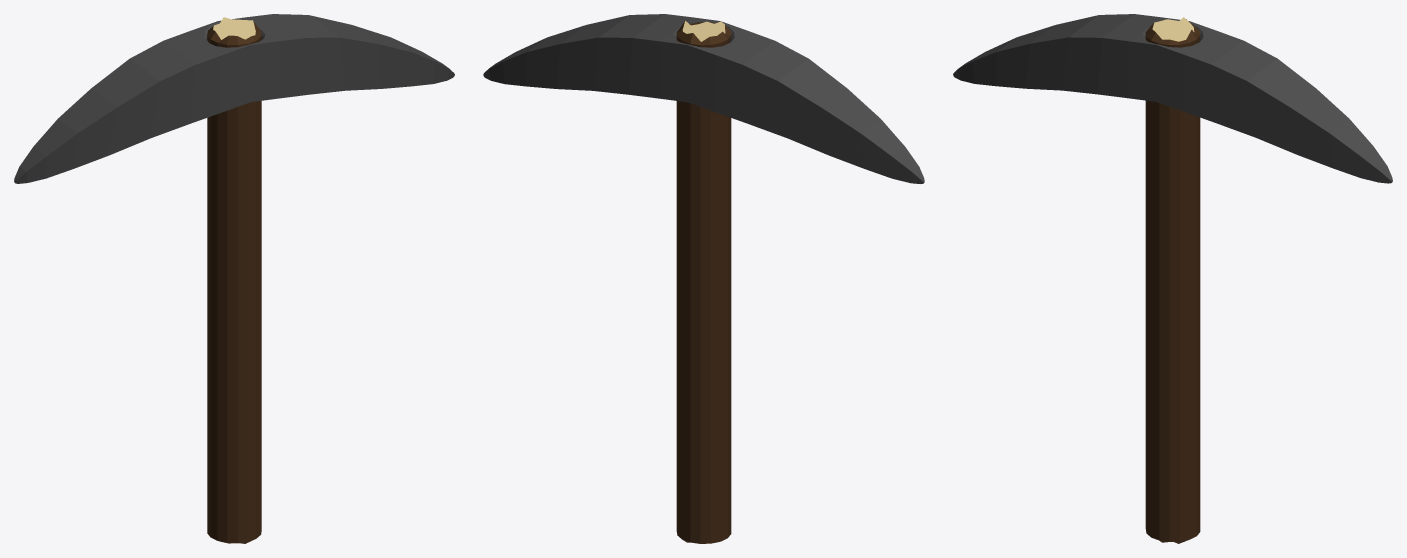
Rendered from kilof.fbx.
The picture shows the model from 3 angles, left to right: view 1: azimuth 30°, elevation 25°; view 2: azimuth 150°, elevation 25°; view 3: azimuth 330°, elevation 25°; orthographic projection.
Parts seen in each view (by area): view 1: Cube; view 2: Cube; view 3: Cube.
Part boxes in pixels (x1=…): Cube: x1=14, y1=14, x2=454, y2=543; Cube: x1=483, y1=14, x2=924, y2=543; Cube: x1=953, y1=14, x2=1392, y2=543.
Size of the model in its own units: 18.05 by 20.06 by 2.33.
